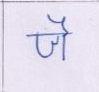ai_matra: (48, 14, 71, 32)
